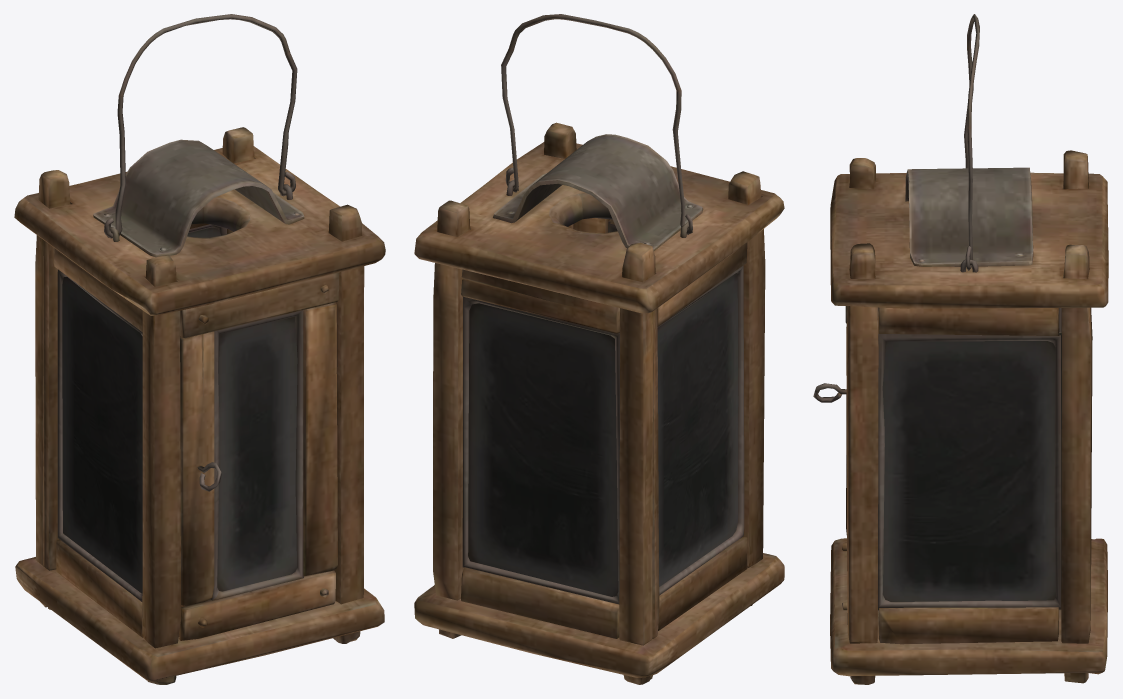
Rendered from wooden_lantern_01.glb.
The picture shows the model from 3 angles, left to right: view 1: azimuth 30°, elevation 25°; view 2: azimuth 150°, elevation 25°; view 3: azimuth 270°, elevation 25°; orthographic projection.
Visible parts, largest first — view 1: wooden_lantern_01, wooden_lantern_01_door, wooden_lantern_01_handle; view 2: wooden_lantern_01, wooden_lantern_01_handle, wooden_lantern_01_door; view 3: wooden_lantern_01, wooden_lantern_01_handle, wooden_lantern_01_door.
Part boxes in pixels (x1,y1,x2,y2): wooden_lantern_01: (14,127,385,684); wooden_lantern_01_door: (178,272,339,640); wooden_lantern_01_handle: (104,14,297,238); wooden_lantern_01: (414,122,784,684); wooden_lantern_01_handle: (501,14,692,234); wooden_lantern_01_door: (573,218,617,233); wooden_lantern_01: (830,150,1108,684); wooden_lantern_01_handle: (964,14,979,270); wooden_lantern_01_door: (813,306,847,624).
Size of the model in its own units: 0.221 by 0.5287 by 0.2341.
Materials: 2 (2 with a texture image).
